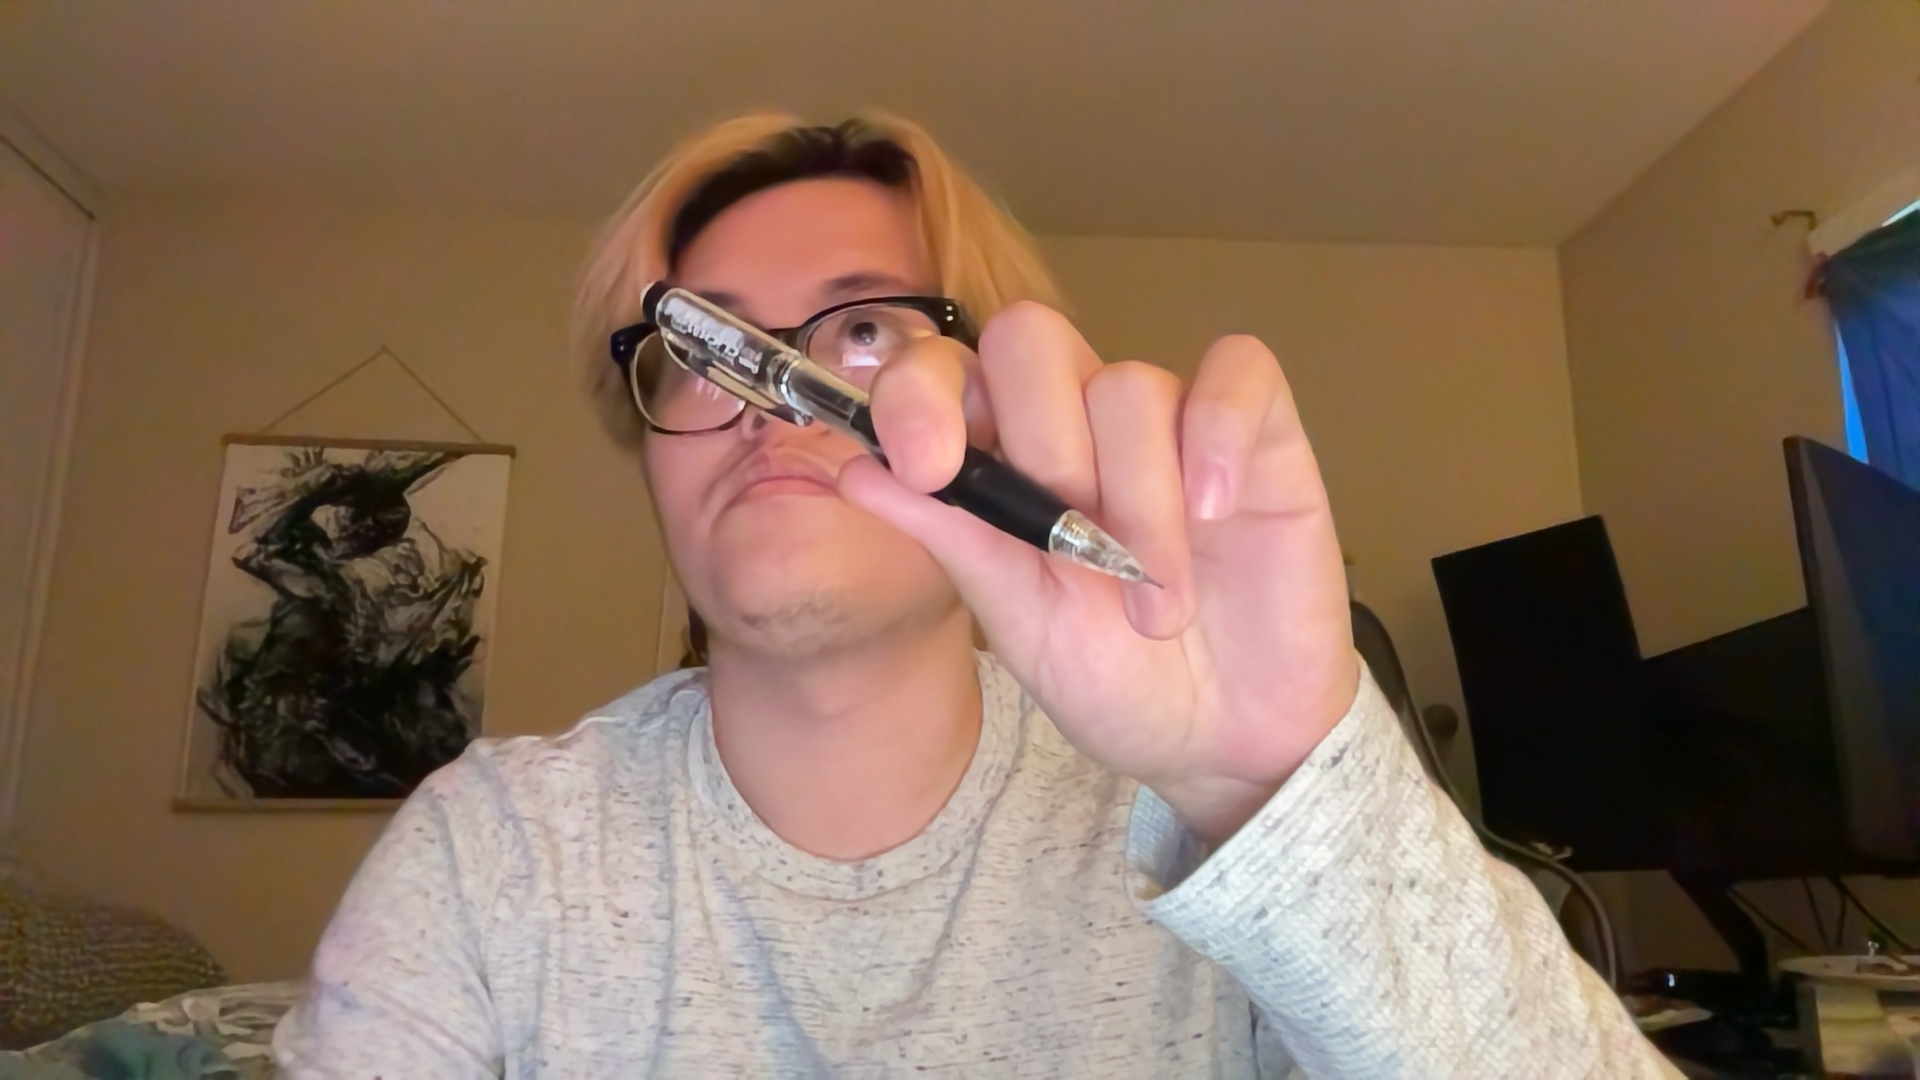pencil: (636, 270, 1185, 604)
